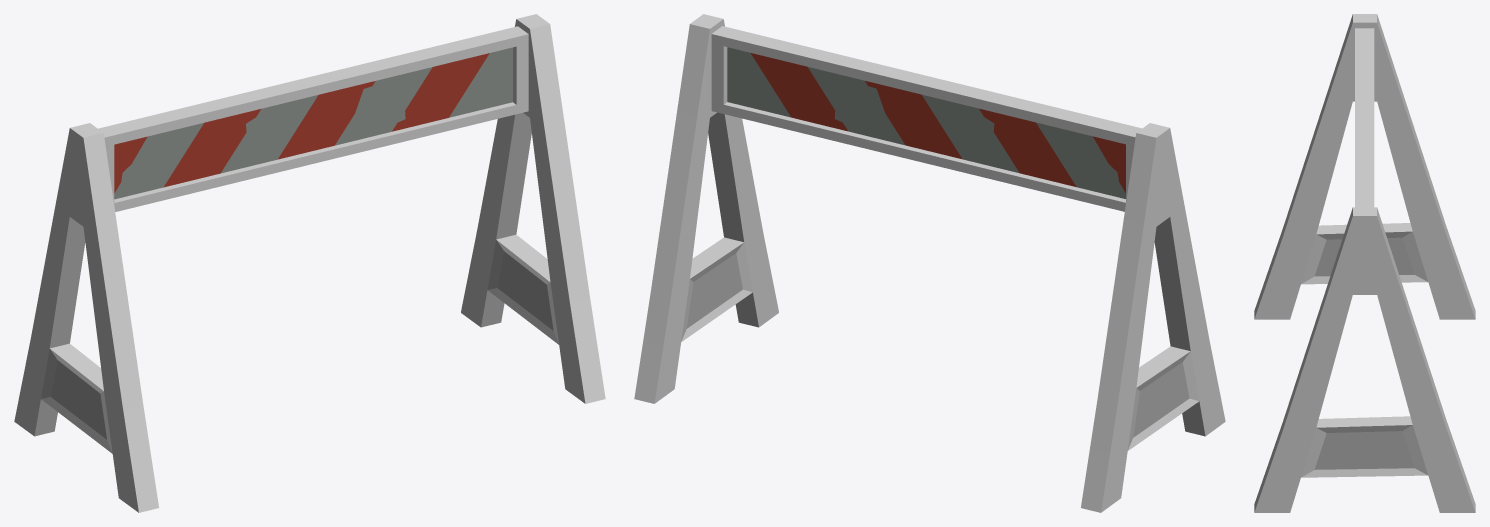
File: barrier.glb
3 renders of one model, left to right at view 1: azimuth 30°, elevation 25°; view 2: azimuth 150°, elevation 25°; view 3: azimuth 270°, elevation 25°, orthographic. The views are drawn at different scales.
Visible parts, largest first — view 1: SM_Prop_Barrier_01; view 2: SM_Prop_Barrier_01; view 3: SM_Prop_Barrier_01.
Part boxes in pixels (bbox=[...]): SM_Prop_Barrier_01: bbox=[14, 14, 605, 512]; SM_Prop_Barrier_01: bbox=[634, 14, 1225, 512]; SM_Prop_Barrier_01: bbox=[1254, 14, 1475, 512].
Size of the model in its own units: 1.43 by 0.9825 by 0.664.
1 material, 1 textured.
